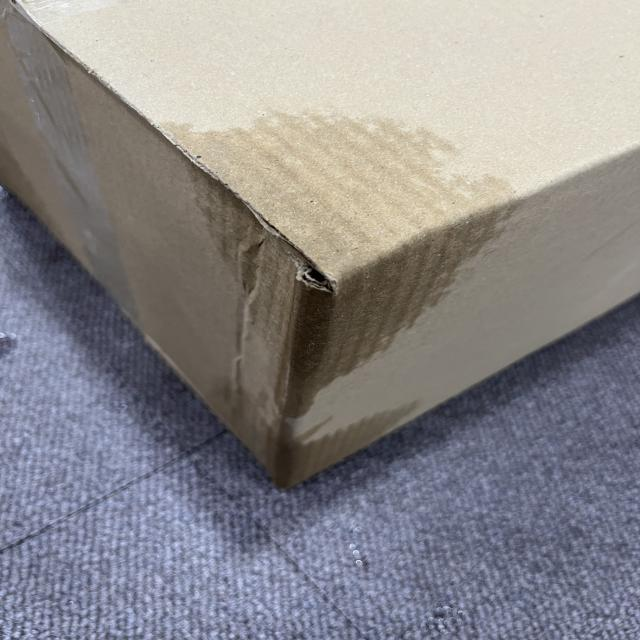wet: (163, 107, 519, 408)
